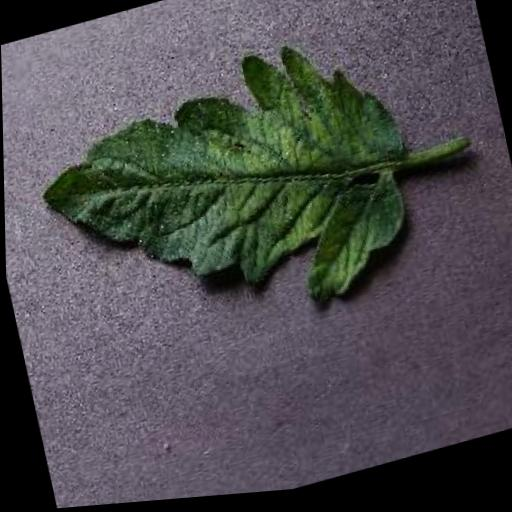Mosaic Virus: (18, 22, 436, 379)
